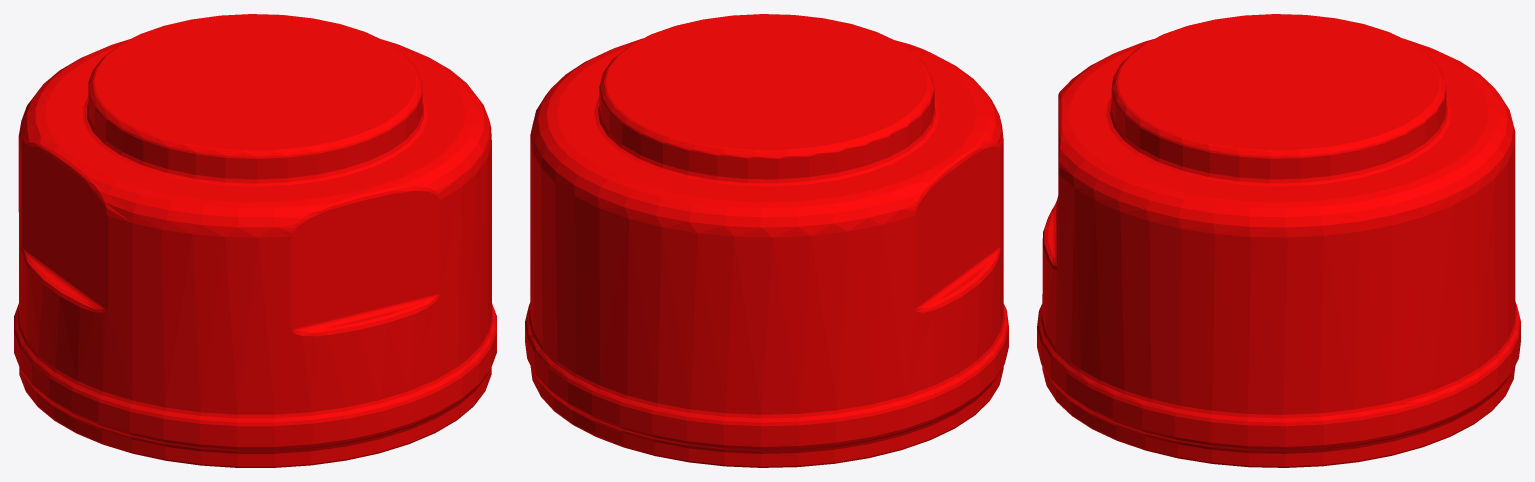
3 views of the same model, side by side, from view 1: azimuth 30°, elevation 25°; view 2: azimuth 150°, elevation 25°; view 3: azimuth 270°, elevation 25° (orthographic).
Parts seen in each view (by area): view 1: H2017_6_0; view 2: H2017_6_0; view 3: H2017_6_0.
Part boxes in pixels (left/top/right/bottom): H2017_6_0: left=14, top=14, right=496, bottom=467; H2017_6_0: left=525, top=14, right=1008, bottom=467; H2017_6_0: left=1037, top=14, right=1520, bottom=467.
Bounding box in the file's own units: 90.96 × 90.96 × 59.5.
